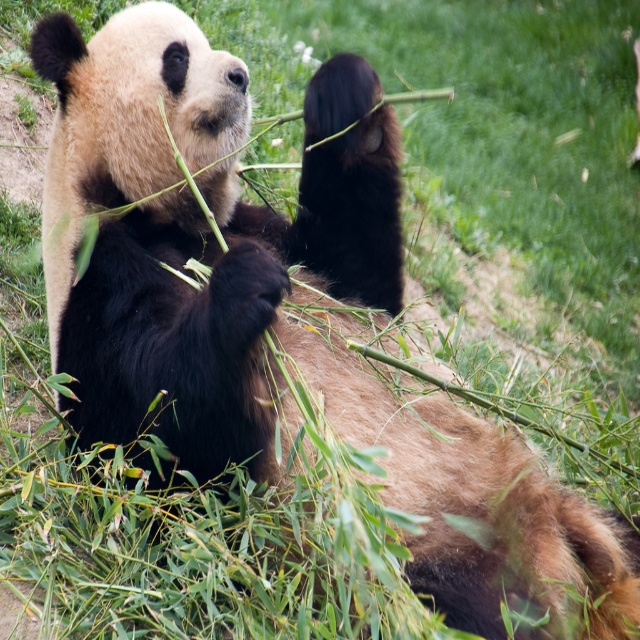Panda: (25, 0, 640, 640)
